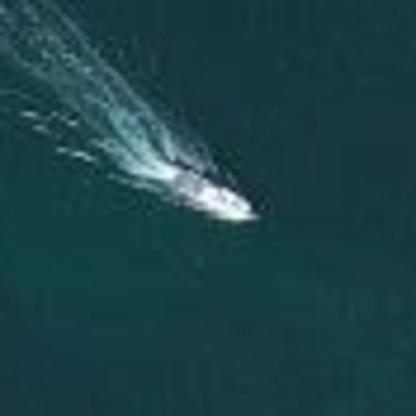ship: (160, 155, 260, 229)
